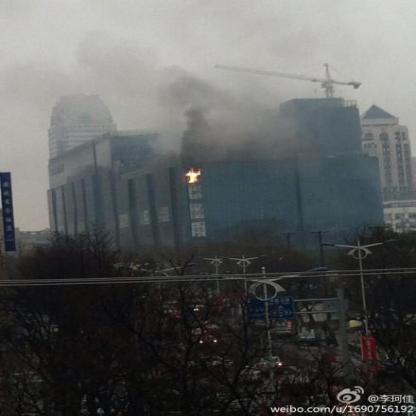fire: (186, 168, 200, 183)
